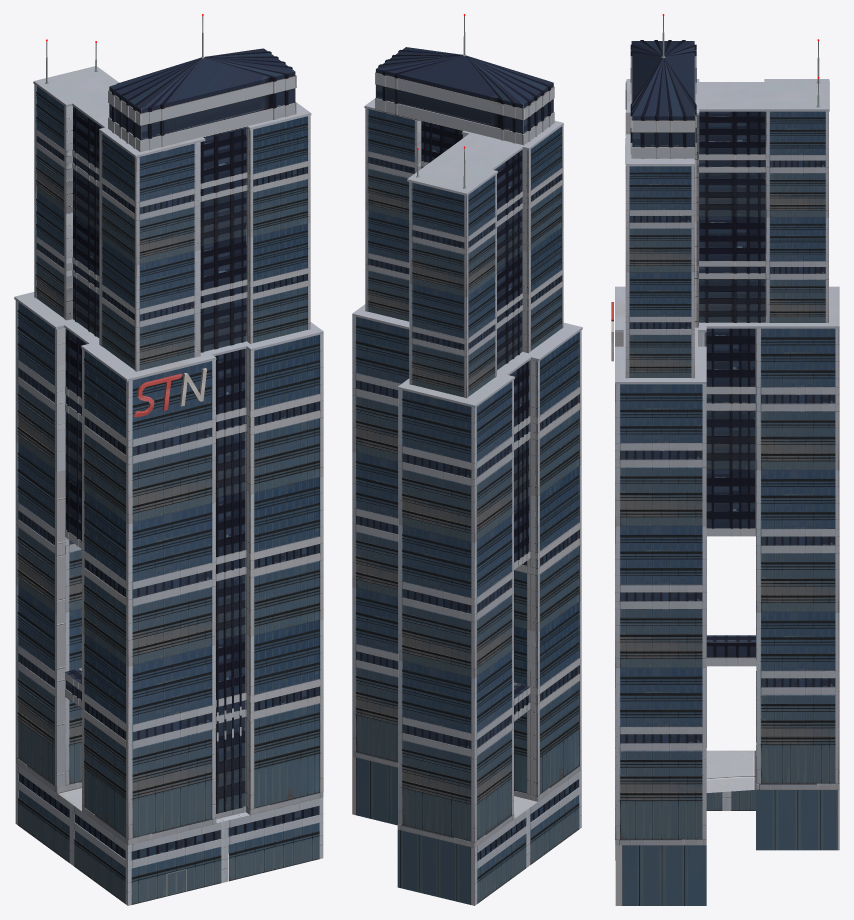
File: communication.glb
3 views of the same model, side by side, from view 1: azimuth 30°, elevation 25°; view 2: azimuth 150°, elevation 25°; view 3: azimuth 270°, elevation 25° (orthographic). The views are drawn at different scales.
Visible parts, largest first — view 1: Plane.001; view 2: Plane.001; view 3: Plane.001.
Part boxes in pixels (box(x1,y1,x2,y2)): Plane.001: box(14, 14, 323, 905); Plane.001: box(352, 14, 582, 905); Plane.001: box(611, 14, 839, 905).
Bounding box in the file's own units: 15.38 × 63.52 × 15.55.
Materials: 5 (3 with a texture image).
